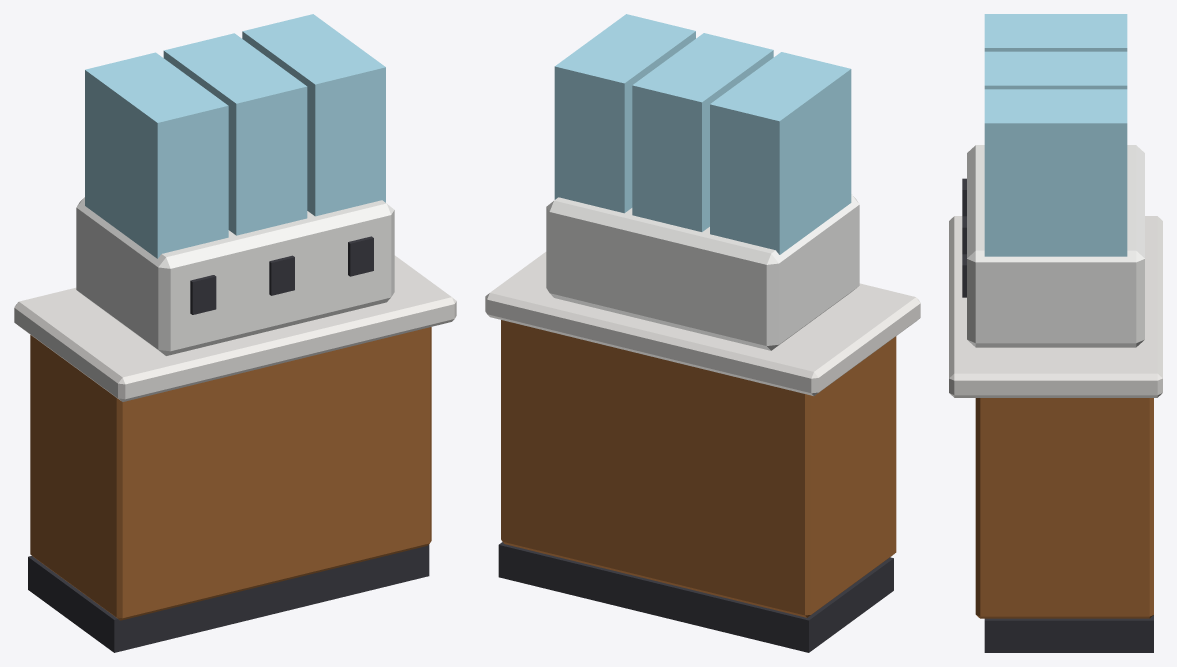
File: SlushieMachine.fbx
3 views of the same model, side by side, from view 1: azimuth 30°, elevation 25°; view 2: azimuth 150°, elevation 25°; view 3: azimuth 270°, elevation 25° (orthographic). The views are drawn at different scales.
Parts seen in each view (by area): view 1: SlushieMachine; view 2: SlushieMachine; view 3: SlushieMachine.
Part boxes in pixels (<box>): SlushieMachine: <box>14,14,456,652</box>; SlushieMachine: <box>485,14,920,652</box>; SlushieMachine: <box>949,14,1162,652</box>.
Size of the model in its own units: 4.3 by 6.3 by 2.4.
Materials: 1 (1 with a texture image).
